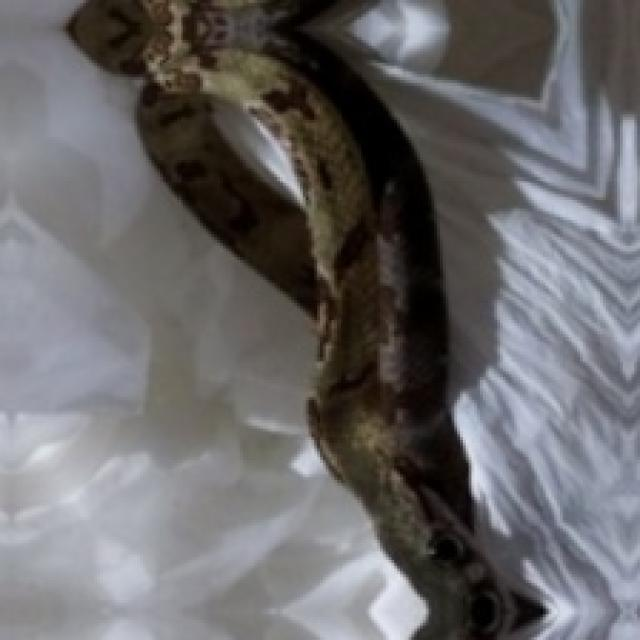dog-toothed cat snake: (69, 0, 543, 637)
